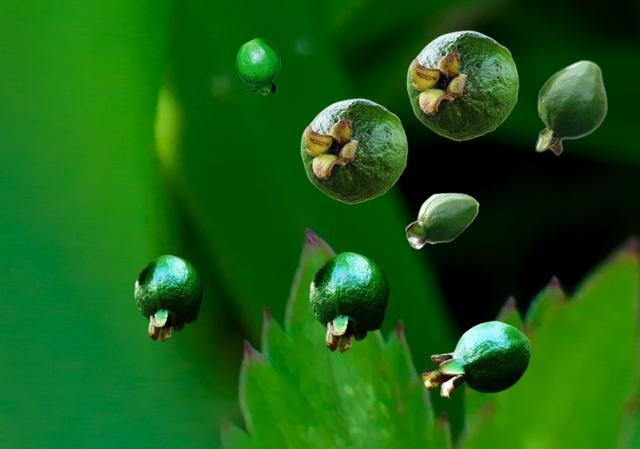guava: (406, 30, 518, 140), (300, 98, 407, 203), (421, 320, 530, 398), (309, 251, 389, 352), (535, 59, 606, 155), (134, 254, 203, 341), (405, 192, 478, 248), (236, 38, 279, 94)
